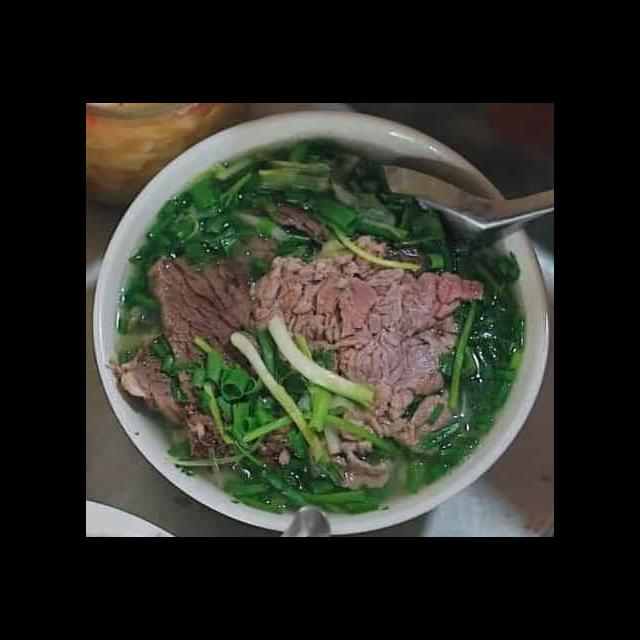thit bo: (245, 224, 492, 463), (105, 348, 236, 473), (147, 245, 272, 374)
